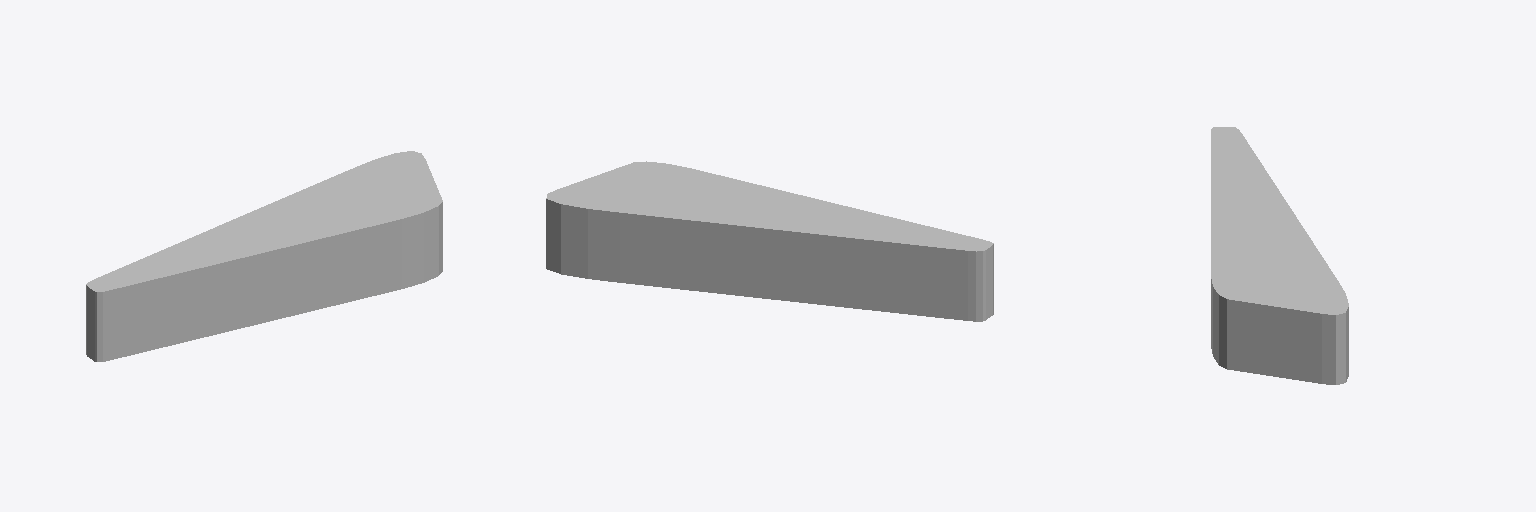
File: bumperL.obj
The picture shows the model from 3 angles: view 1: azimuth 30°, elevation 25°; view 2: azimuth 150°, elevation 25°; view 3: azimuth 270°, elevation 25°; orthographic projection.
Parts seen in each view (by area): view 1: Cube.010; view 2: Cube.010; view 3: Cube.010.
Boxes of the visible parts, x1,y1,x2,y2 form: Cube.010: [86, 151, 442, 361]; Cube.010: [546, 161, 993, 321]; Cube.010: [1211, 127, 1348, 384].
Size of the model in its own units: 1.15 by 0.2 by 0.3577.